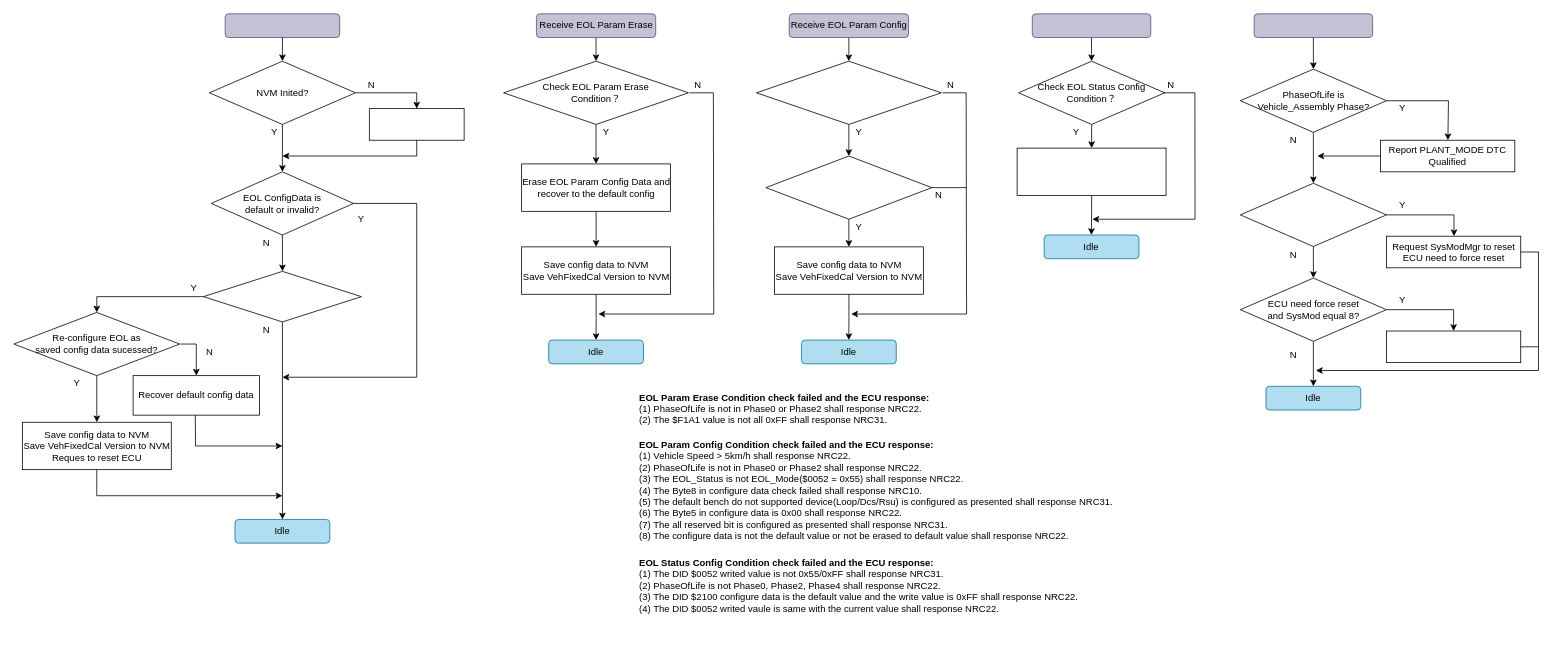
Image size: 1559x645. Some labels were removed from this diagram. The shapes that lost their labels are listed below. From the top down, each one's centre as x and y in pixels, then its label:
(x=282, y=25): Power Up
(x=1091, y=25): Receive EOL Status Config
(x=1313, y=25): Main Function(Every 5ms)
(x=848, y=92): Check EOL Param Config Condition？
(x=416, y=124): Init NVM as default values
(x=848, y=187): Config EOL as requested sucessed?
(x=1091, y=171): Set EOL status as requested Save the EOL status to NVM
(x=1313, y=214): ECU reset requested and SysMod equal 3?
(x=282, y=296): VehFixedCal Version diff with saved?
(x=1453, y=346): Request RstDrvr to force reset
